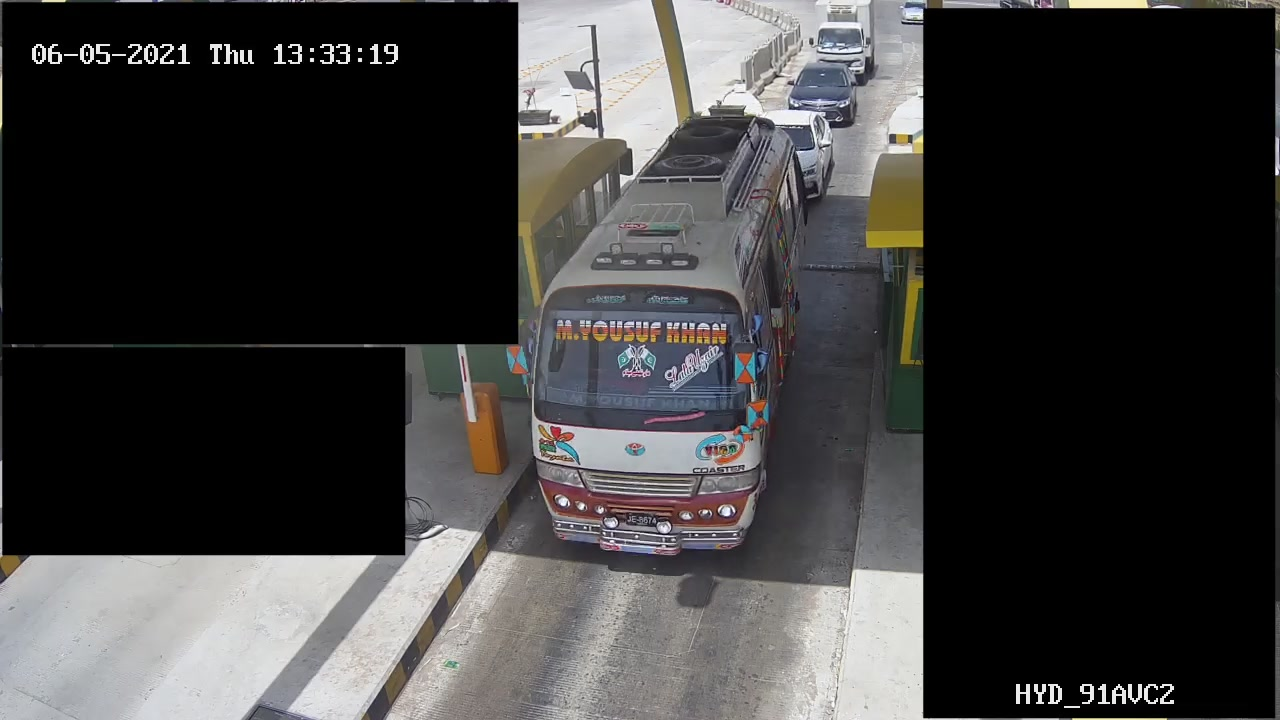F4: (529, 112, 807, 552)
